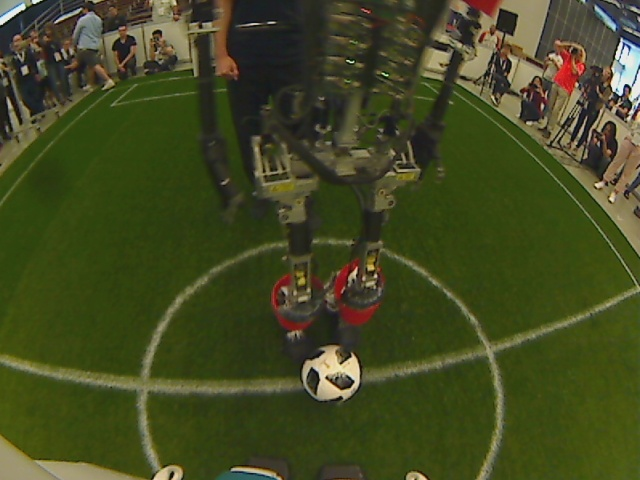ball: (300, 344, 365, 406)
